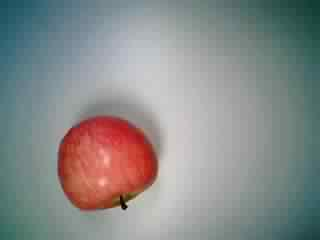apple: (52, 113, 158, 217)
